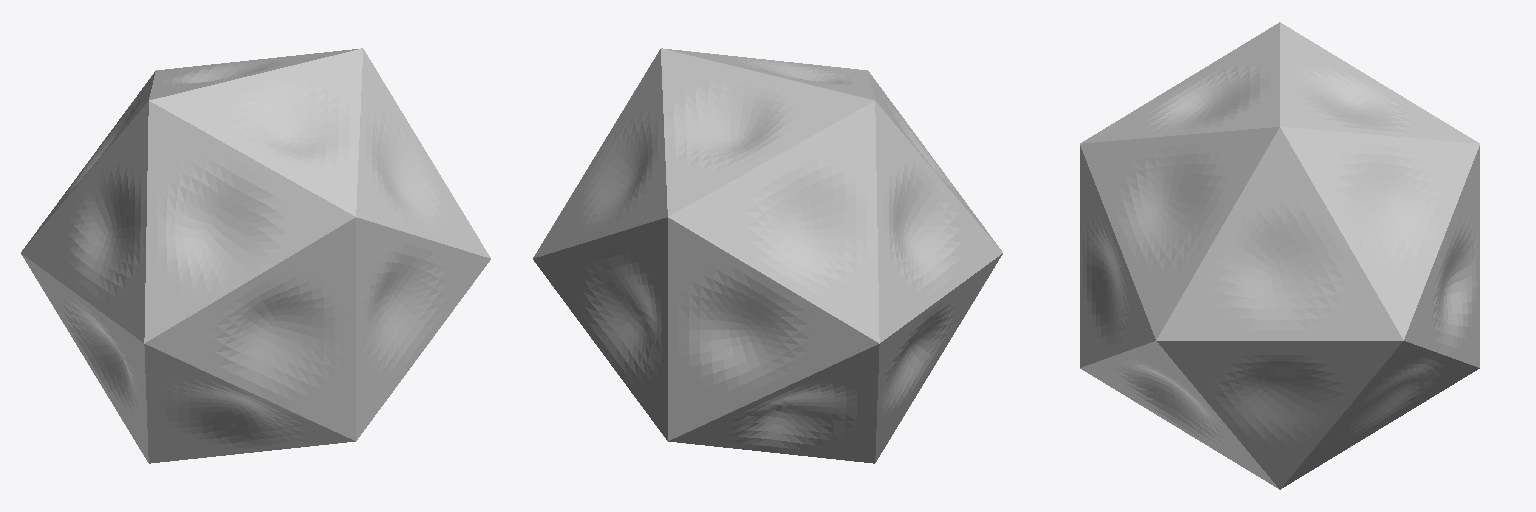
Rendered from icosa_float.obj.
The picture shows the model from 3 angles: view 1: azimuth 30°, elevation 25°; view 2: azimuth 150°, elevation 25°; view 3: azimuth 270°, elevation 25°; orthographic projection.
Parts seen in each view (by area): view 1: icosa_float; view 2: icosa_float; view 3: icosa_float.
Part boxes in pixels (x1,y1,x2,y2): icosa_float: (21,48,490,463); icosa_float: (533,48,1002,463); icosa_float: (1080,22,1479,489).
Bounding box in the file's own units: 1.7 × 1.7 × 1.7.